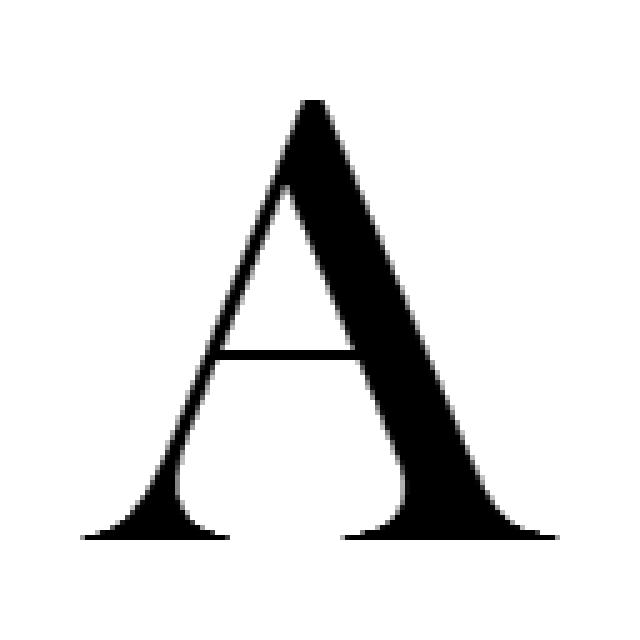A: (75, 85, 560, 550)
